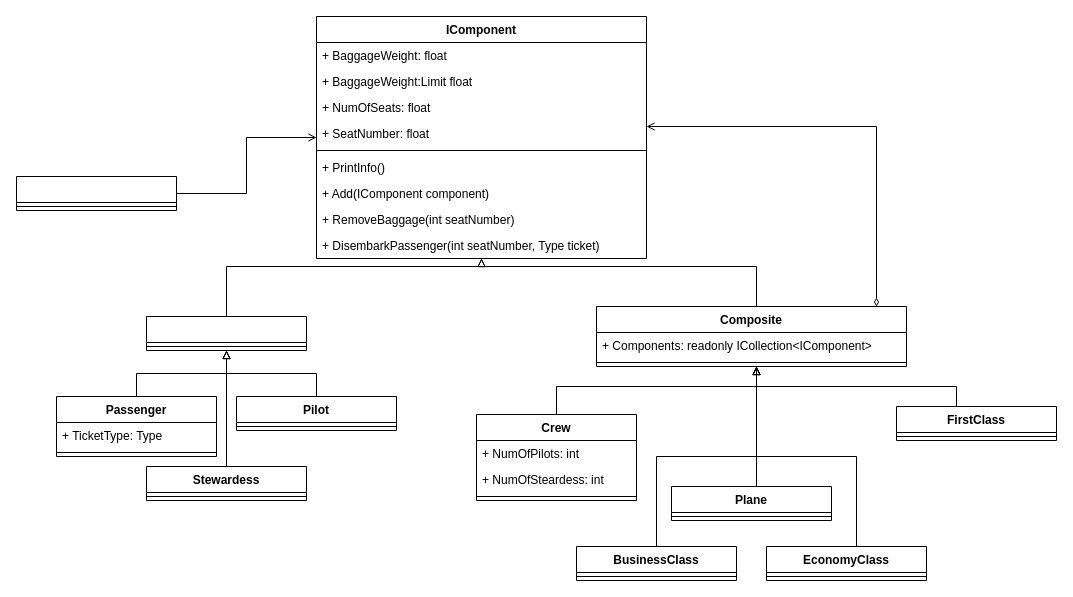
Some shapes in this 1073 by 597 pixel diagram are drawn without their labels. Here are the shapes that lost their labels. From the top down, the centre of each, then its label:
At point (96, 193): "Client".
At point (226, 333): "Primitive".
